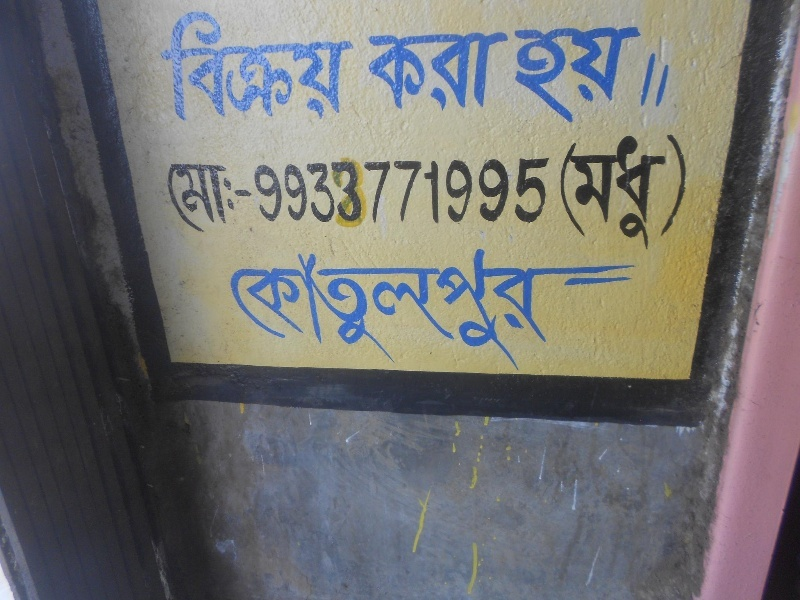text: (241, 246, 256, 379), (257, 246, 272, 379), (273, 246, 288, 379), (289, 246, 304, 379), (305, 246, 320, 379), (321, 246, 336, 379), (337, 246, 352, 379), (353, 246, 368, 379), (369, 246, 384, 379), (385, 246, 400, 379), (401, 246, 416, 379), (417, 246, 432, 379), (433, 246, 448, 379), (449, 246, 464, 379), (465, 246, 480, 379), (481, 246, 496, 379), (497, 246, 512, 379), (513, 246, 528, 379), (529, 246, 544, 379), (545, 246, 560, 379), (561, 246, 576, 379), (577, 246, 592, 379), (593, 246, 608, 379), (609, 246, 624, 379), (625, 246, 640, 379), (561, 132, 576, 249), (577, 132, 592, 249), (593, 132, 608, 249), (609, 132, 624, 249), (625, 132, 640, 249), (641, 132, 656, 249), (657, 132, 672, 249), (177, 9, 192, 122), (193, 9, 208, 122), (209, 9, 224, 122), (225, 9, 240, 122), (241, 9, 256, 122), (257, 9, 272, 122), (273, 9, 288, 122), (289, 9, 304, 122), (305, 9, 320, 122), (321, 9, 336, 122), (337, 9, 352, 122), (673, 132, 687, 249), (162, 9, 176, 122), (513, 26, 528, 127), (529, 26, 544, 127), (545, 26, 560, 127), (561, 26, 576, 127), (577, 26, 592, 127), (593, 26, 608, 127), (609, 26, 624, 127), (625, 26, 640, 127), (641, 26, 656, 127), (229, 246, 240, 379), (657, 26, 669, 127), (369, 32, 384, 112), (385, 32, 400, 112), (401, 32, 416, 112), (417, 32, 432, 112), (433, 32, 448, 112), (449, 32, 464, 112), (465, 32, 480, 112), (481, 32, 496, 112), (177, 164, 192, 237), (193, 164, 208, 237), (209, 164, 224, 237), (225, 164, 240, 237), (257, 153, 272, 226), (273, 153, 288, 226), (289, 153, 304, 226), (305, 153, 320, 226), (321, 153, 336, 226), (337, 153, 352, 226), (353, 153, 368, 226), (369, 153, 384, 226), (385, 153, 400, 226), (401, 153, 416, 226), (417, 153, 432, 226), (433, 153, 448, 226), (449, 153, 464, 226), (465, 153, 480, 226), (481, 153, 496, 226), (497, 153, 512, 226), (513, 153, 528, 226), (529, 153, 544, 226), (641, 246, 649, 379), (497, 32, 510, 112), (163, 164, 176, 237), (241, 164, 252, 237), (353, 9, 359, 122), (545, 153, 552, 226), (254, 153, 256, 226), (559, 132, 560, 249)
